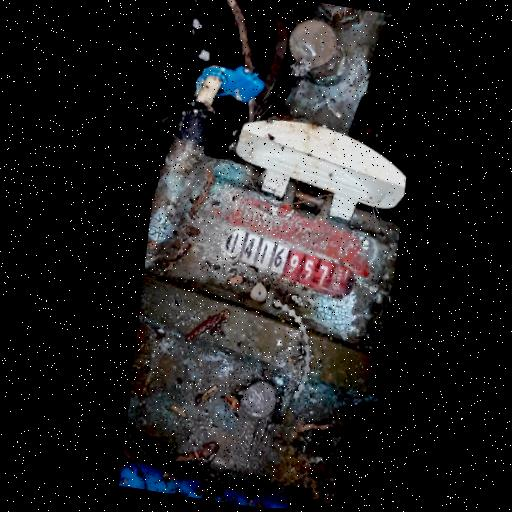1: (328, 263, 354, 299), (224, 227, 250, 262), (253, 237, 279, 272)
4: (237, 231, 266, 267)
5: (296, 251, 324, 288)
6: (266, 241, 293, 276)
7: (309, 256, 339, 294)
9: (281, 246, 308, 282)
border_water_meter_number: (214, 220, 366, 307)
